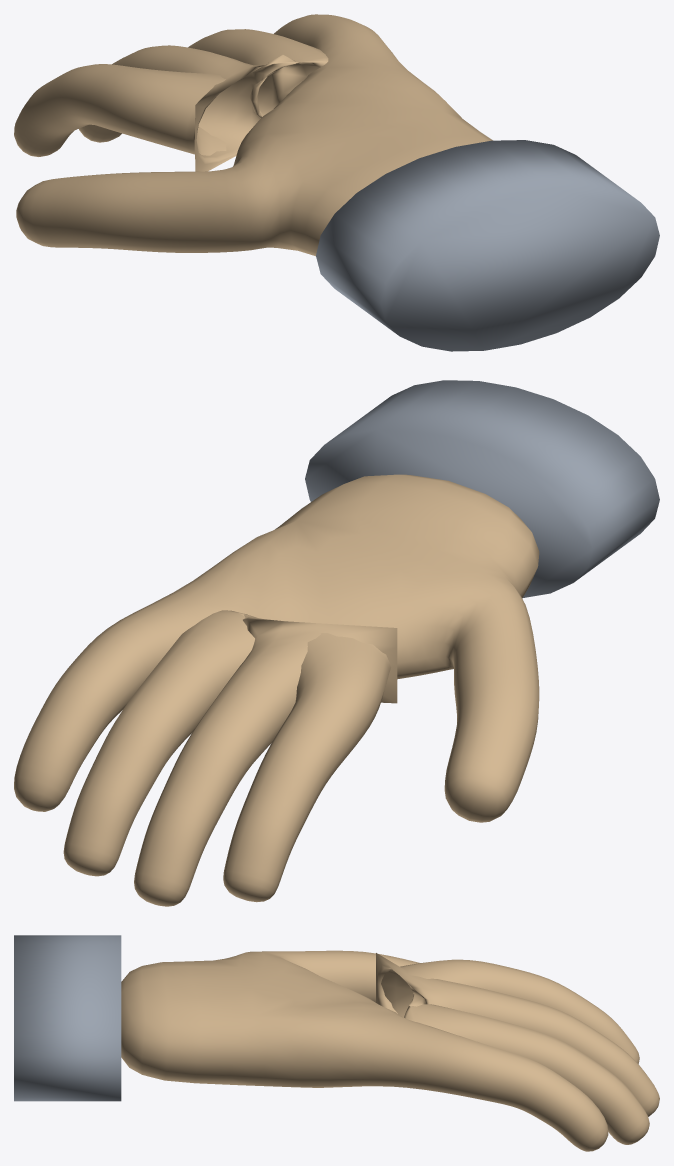
Rendered from glove.glb.
3 views of the same model, one above another, from view 1: azimuth 30°, elevation 25°; view 2: azimuth 150°, elevation 25°; view 3: azimuth 270°, elevation 25° (orthographic). The views are drawn at different scales.
Visible parts, largest first — view 1: glove; view 2: glove; view 3: glove.
Boxes of the visible parts, left/top/right/bottom form: glove: left=14, top=14, right=659, bottom=351; glove: left=14, top=380, right=659, bottom=906; glove: left=14, top=935, right=659, bottom=1151.
Bounding box in the file's own units: 0.1025 × 0.0544 × 0.1807.
